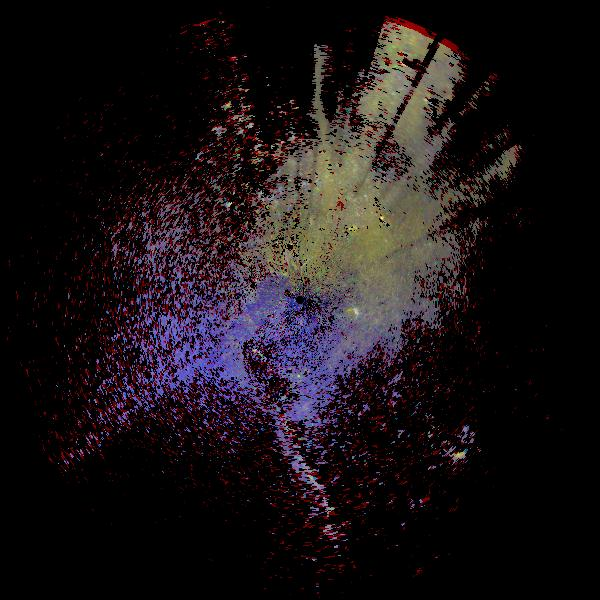roost: (345, 306, 363, 324)
